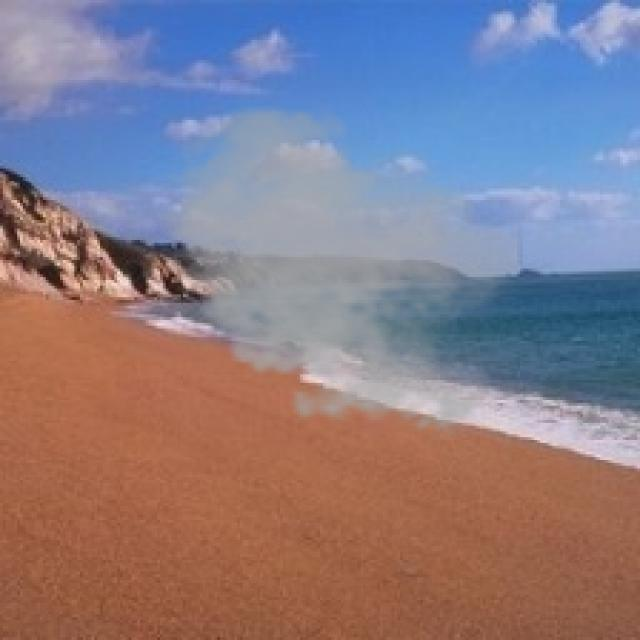smoke: (148, 97, 523, 443)
